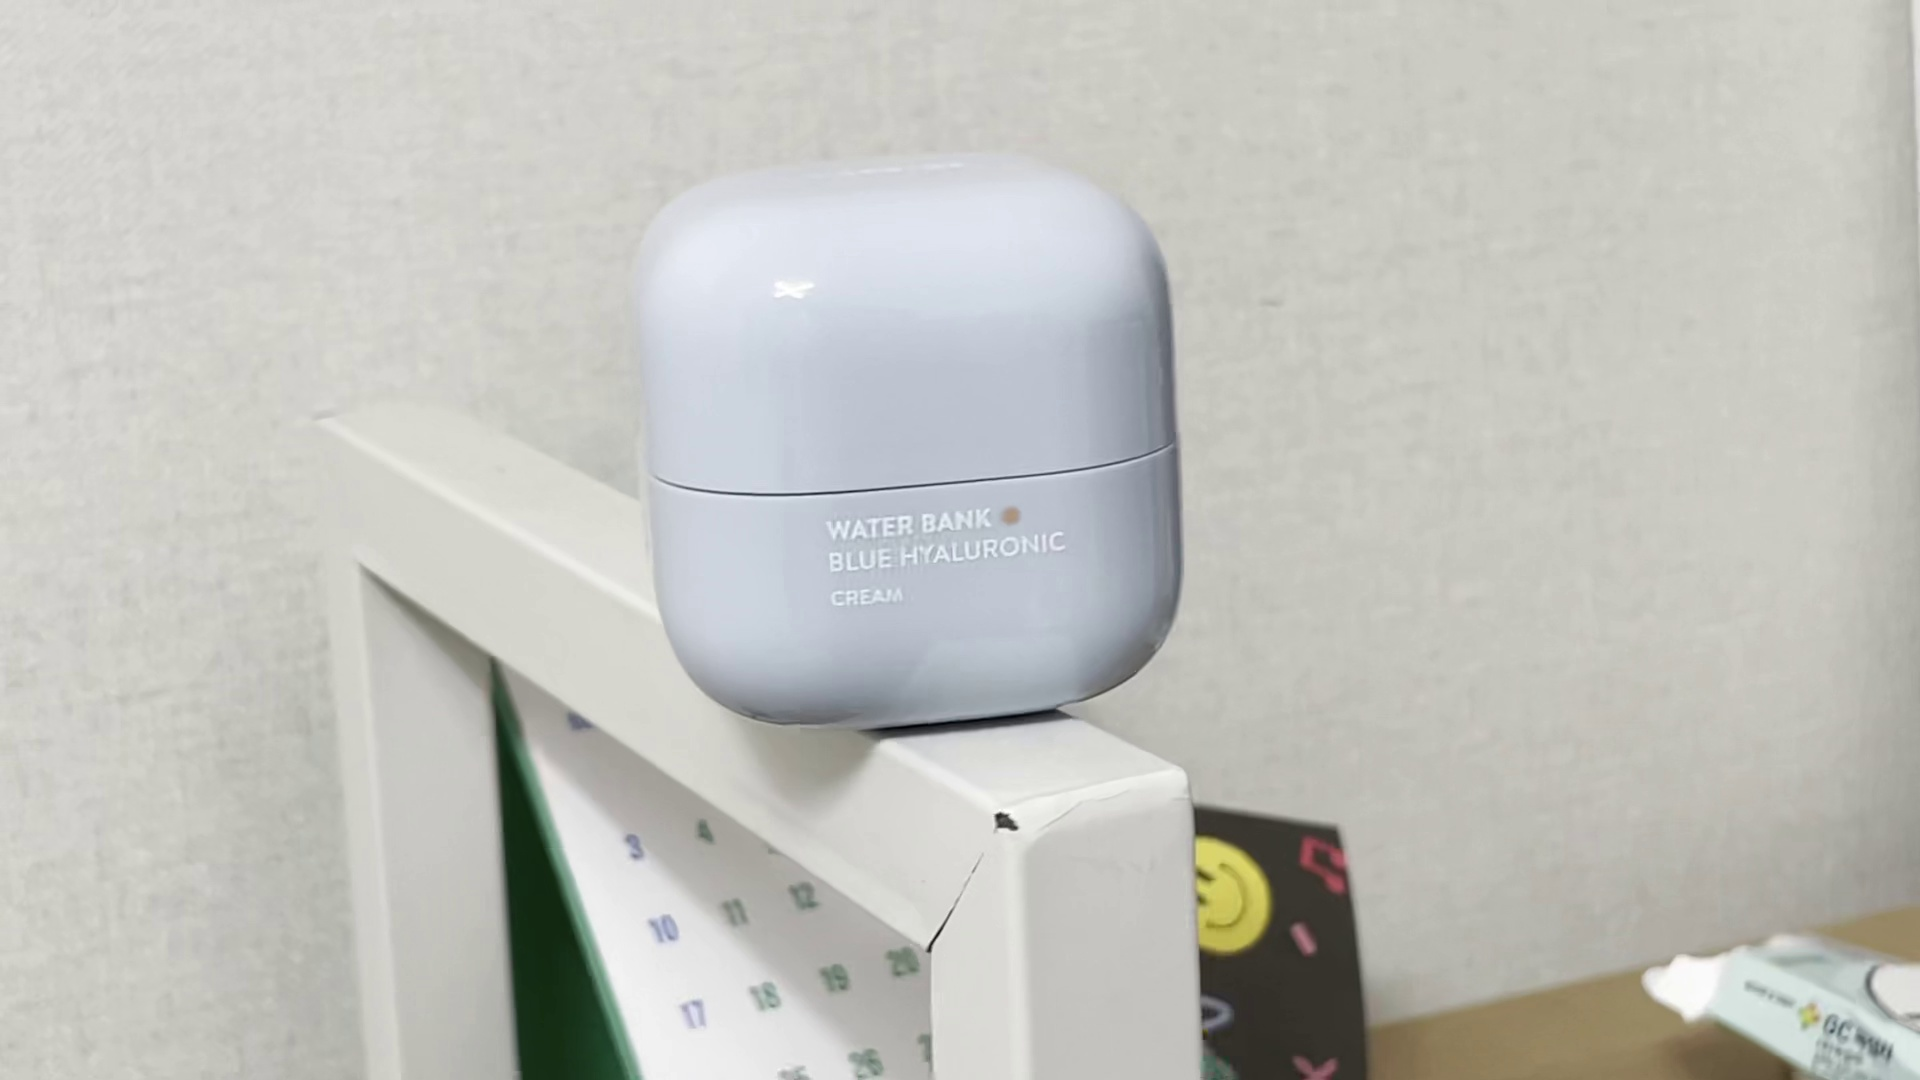cream: (630, 145, 1191, 738)
